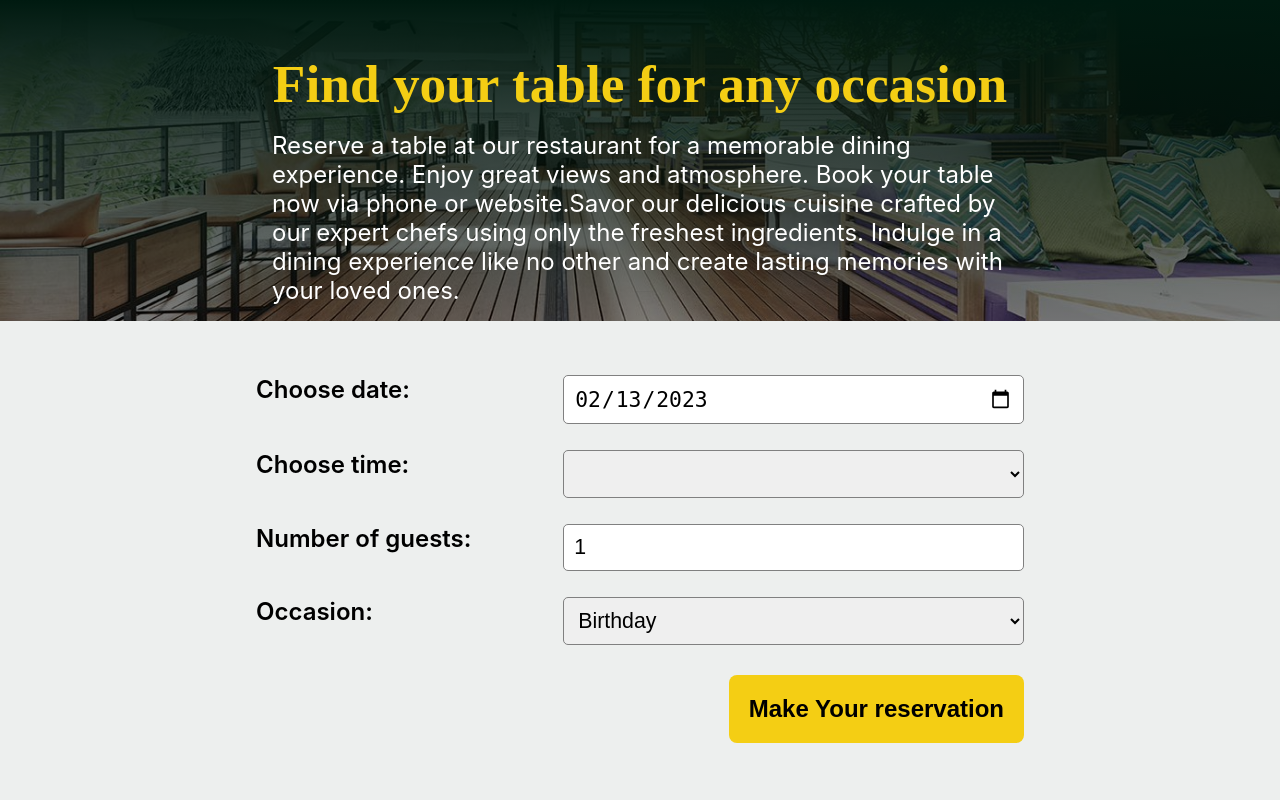
it: displays error message for date in the past
The image size is (1280, 800).
Type "2000-01-01" into the date field with test id "res-date". click: (794, 400)
box: [563,375,1024,424]
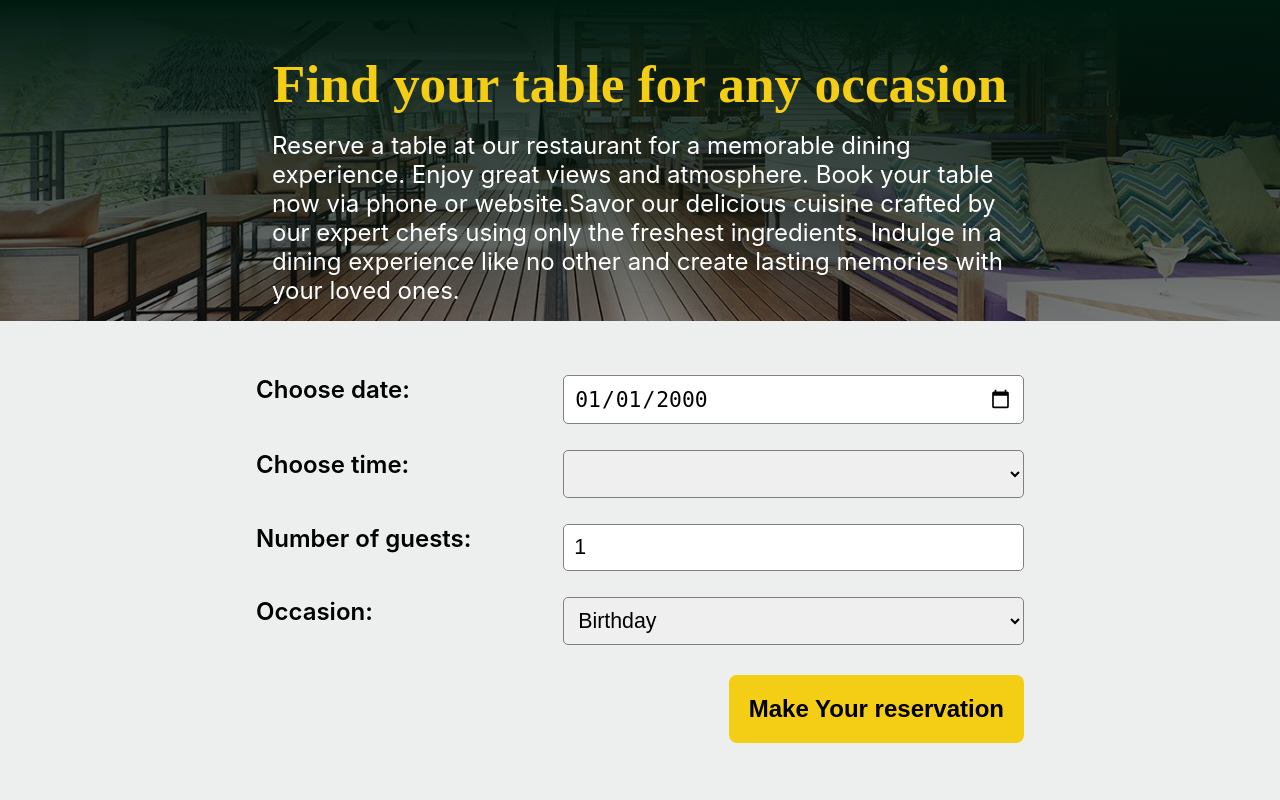
Leave the date field with test id "res-date", box [563,375,1024,424]
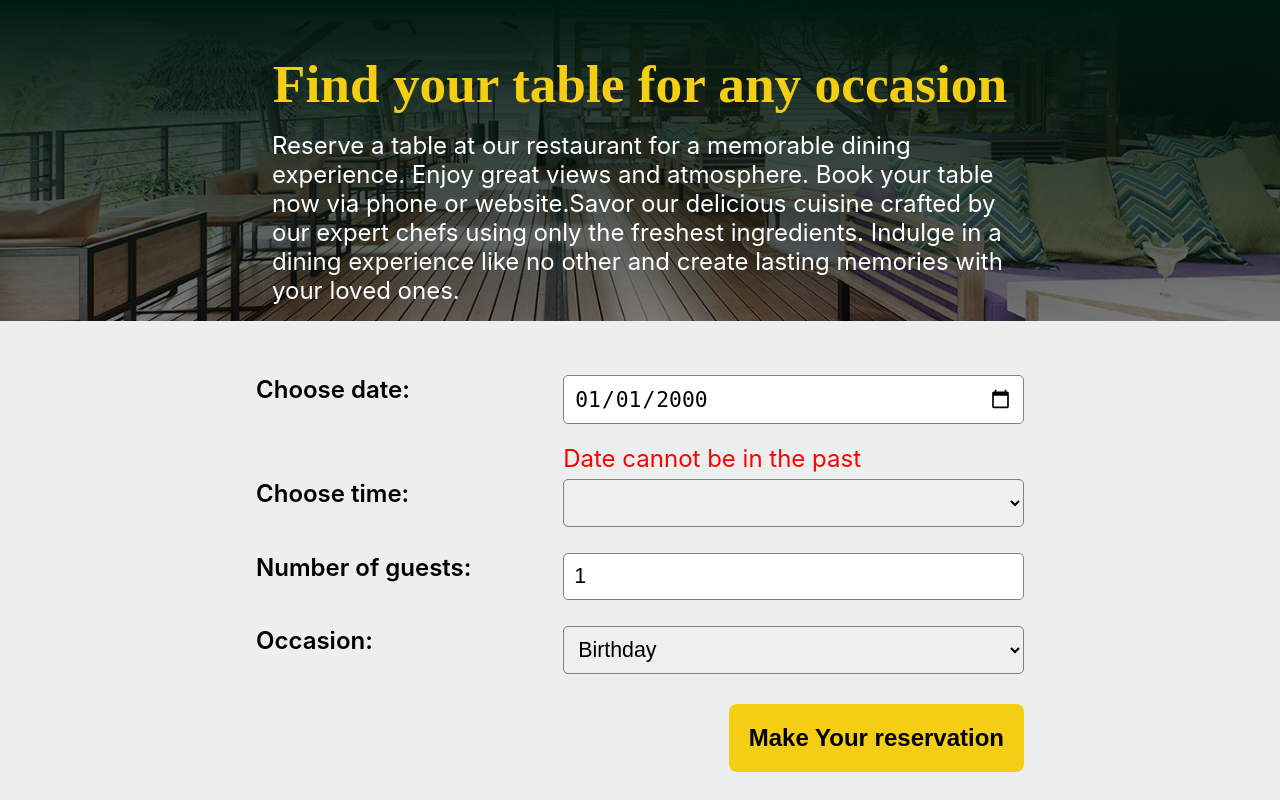
Check: the text "Date cannot be in the past" is shown, box [563,444,861,473]
